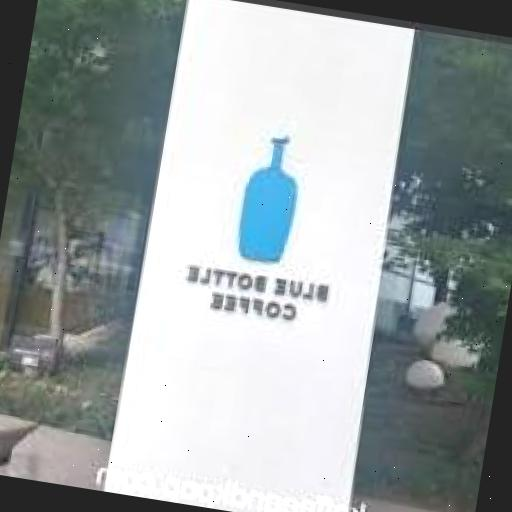bottle: (210, 100, 337, 282)
